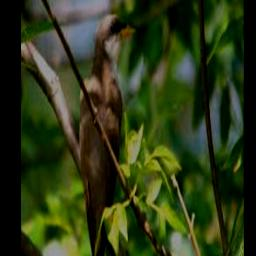Cuckoo: (79, 13, 139, 256)
